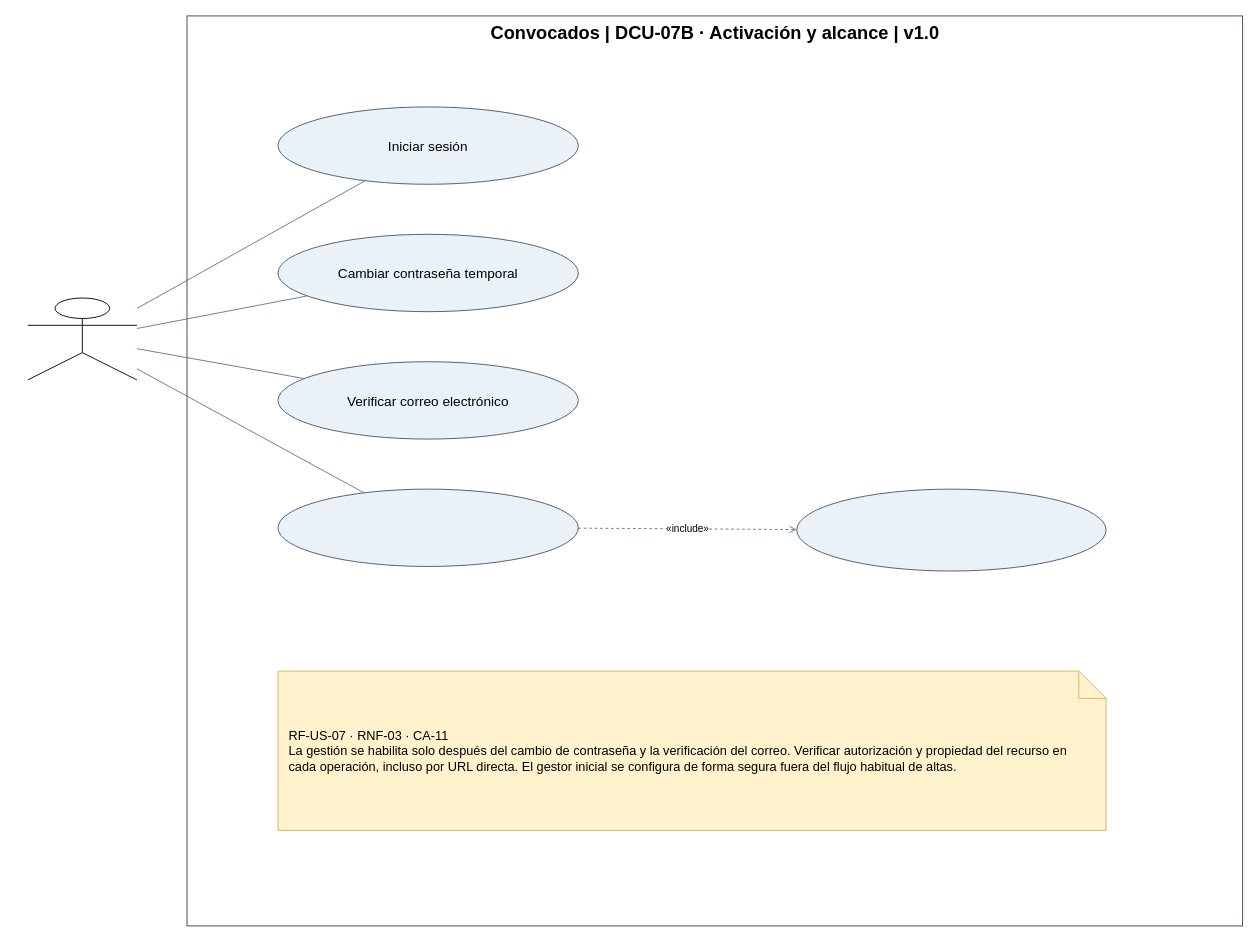
The diagram is 1259 pixels wide and 942 high, and some of its shapes have lost their labels. Here are the shapes that lost their labels. From the top down, the box of each, then its label:
(27, 297, 137, 380): Administrador asignado
(277, 488, 578, 566): Acceder a gestión del establecimiento
(796, 488, 1106, 571): Validar permiso vigente y establecimiento asignado
